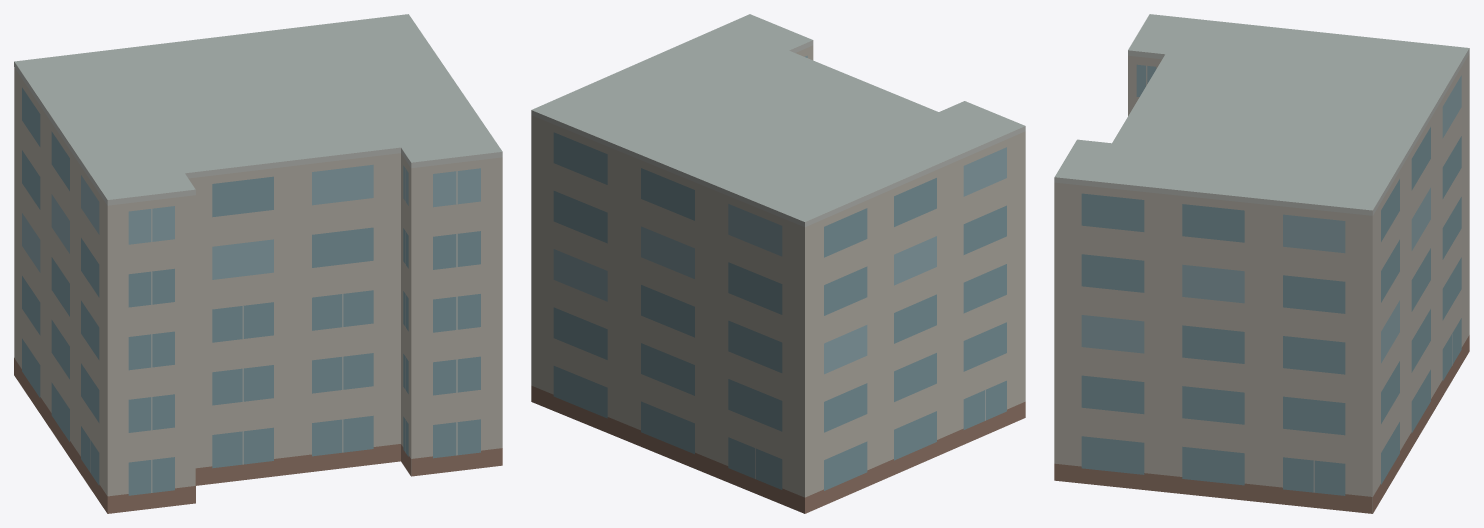
The model's file is survey-upis-32998366.glb.
3 renders of one model, left to right at view 1: azimuth 30°, elevation 25°; view 2: azimuth 150°, elevation 25°; view 3: azimuth 270°, elevation 25°, orthographic. The views are drawn at different scales.
Visible parts, largest first — view 1: survey-upis-32998366.tmp; view 2: survey-upis-32998366.tmp; view 3: survey-upis-32998366.tmp.
Boxes of the visible parts, x1,y1,x2,y2 form: survey-upis-32998366.tmp: (14, 14, 502, 513); survey-upis-32998366.tmp: (531, 14, 1025, 513); survey-upis-32998366.tmp: (1054, 14, 1469, 513).
Bounding box in the file's own units: 19.18 × 13.8 × 17.12.
